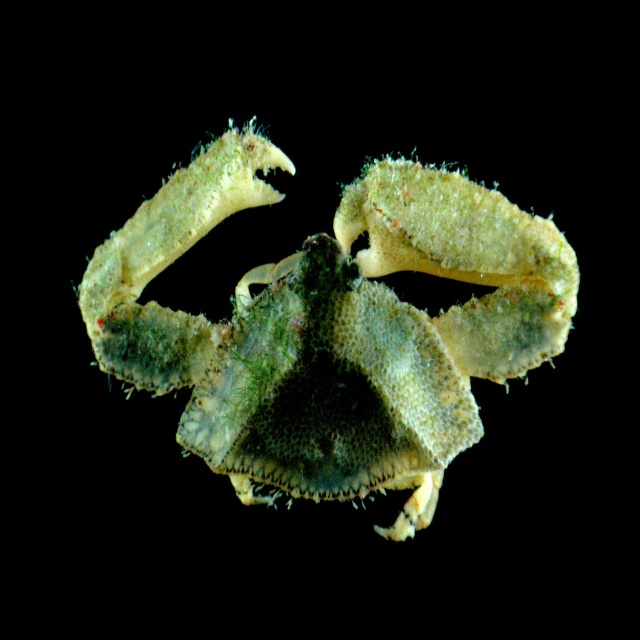Crab: (75, 114, 582, 545)
